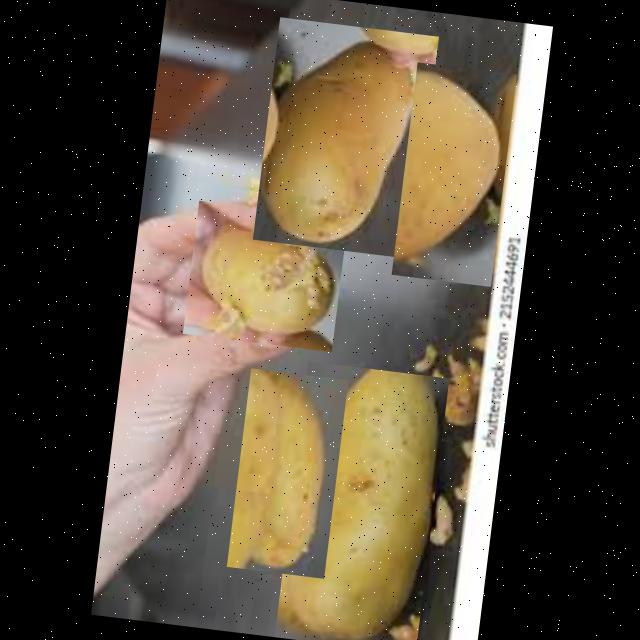Potato: (273, 361, 448, 640), (390, 61, 516, 286), (225, 368, 347, 578)
Sprouted potato: (252, 17, 438, 258), (182, 200, 346, 352)
